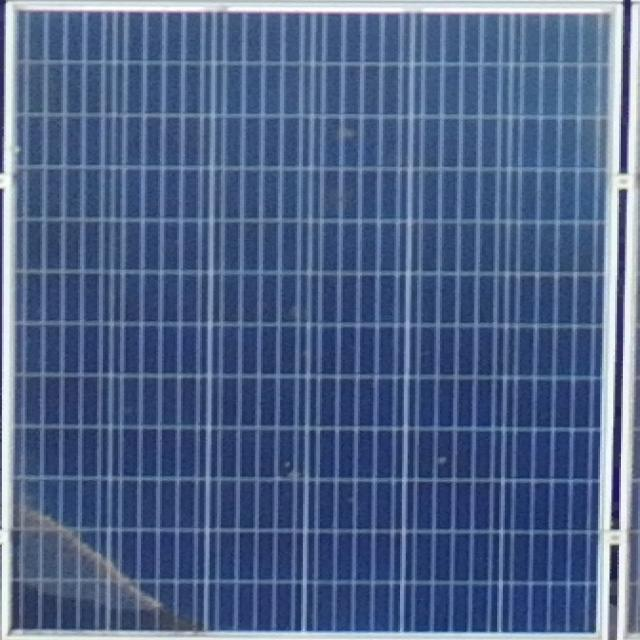Dust: (9, 486, 201, 640)
bird-droppings: (304, 120, 382, 146), (265, 454, 336, 479), (424, 450, 459, 476)
